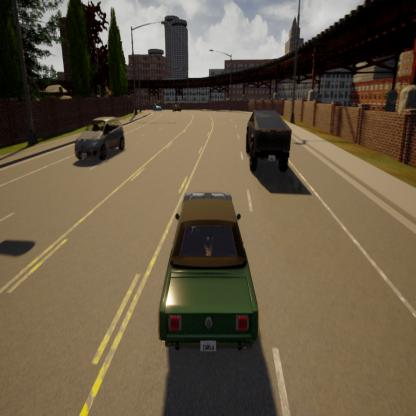Cars: (158, 179, 252, 359), (231, 98, 296, 184), (60, 110, 134, 178), (172, 98, 188, 115), (152, 99, 164, 112)
